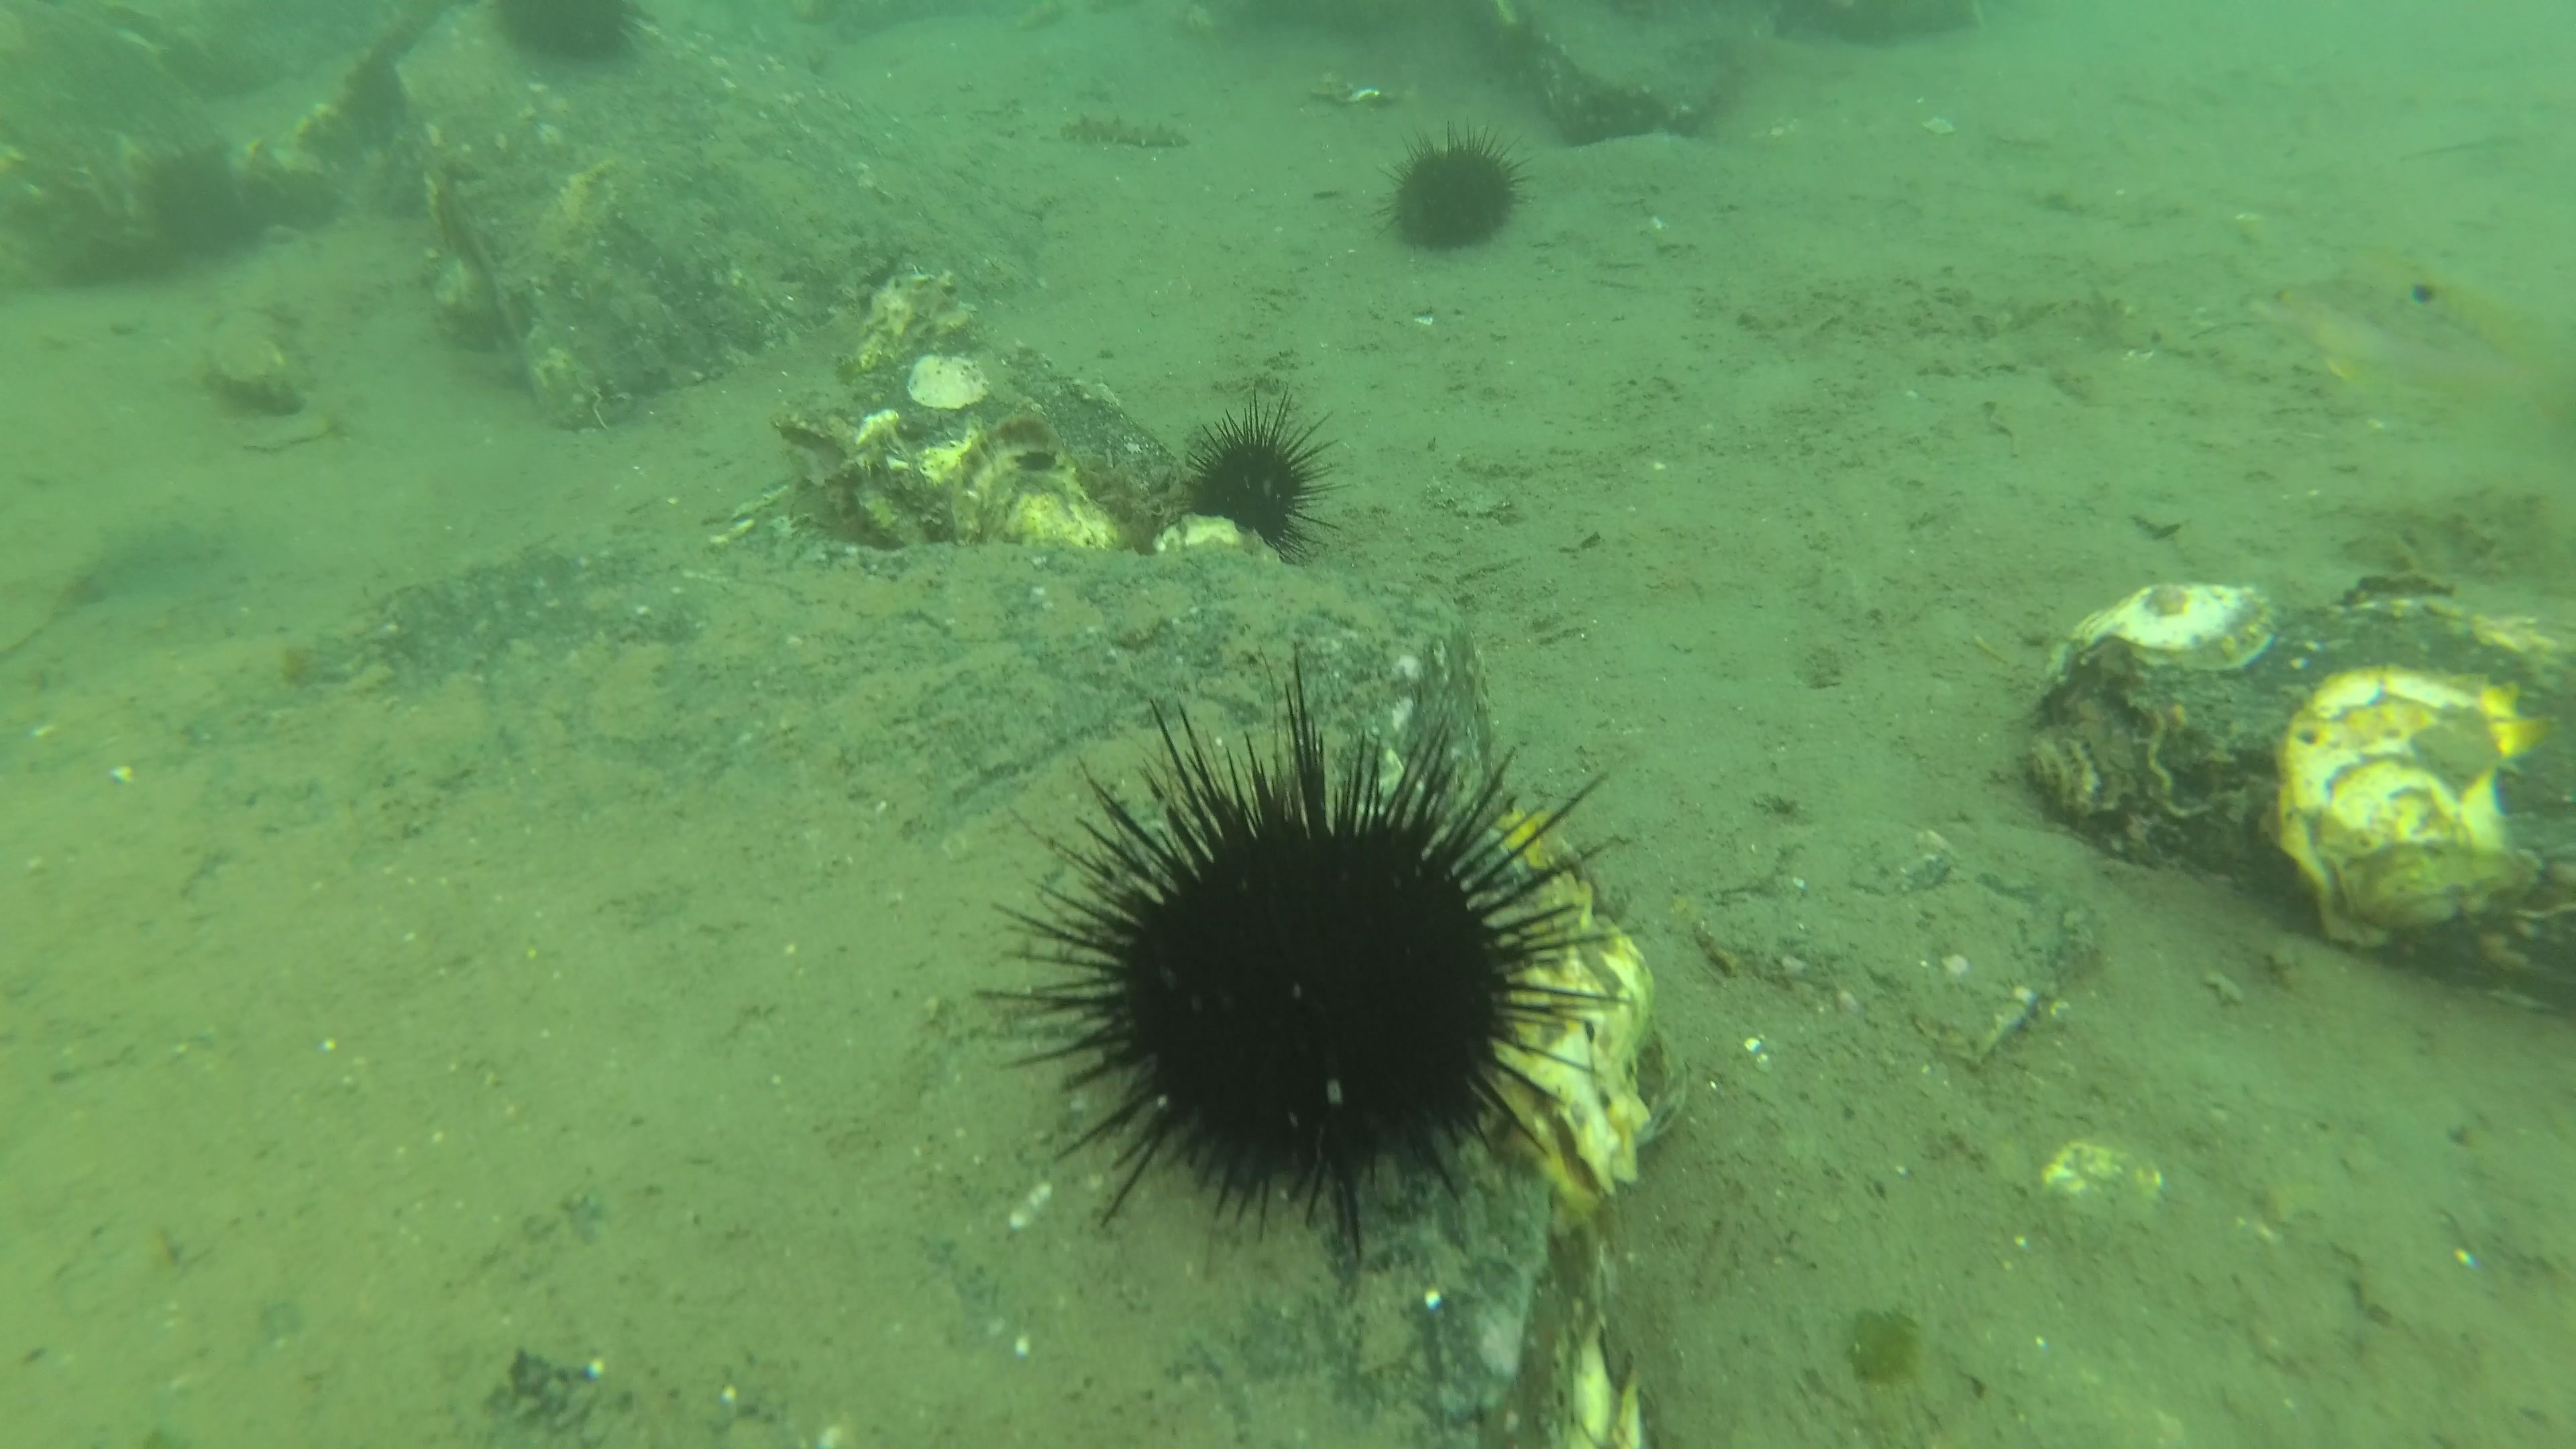echinus: (977, 660, 1637, 1265), (1177, 402, 1346, 571), (1371, 126, 1532, 253), (497, 0, 660, 67)
holothurian: (1054, 103, 1201, 157)
